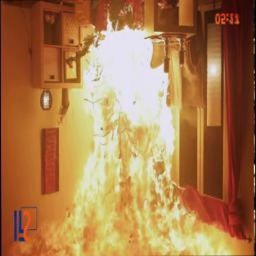fire: (41, 29, 213, 256)
